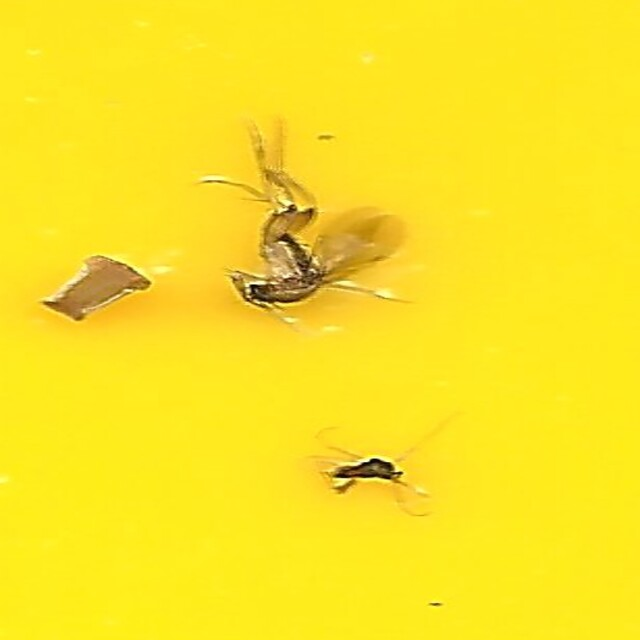Nematocera: (208, 123, 414, 322), (299, 439, 432, 517)
